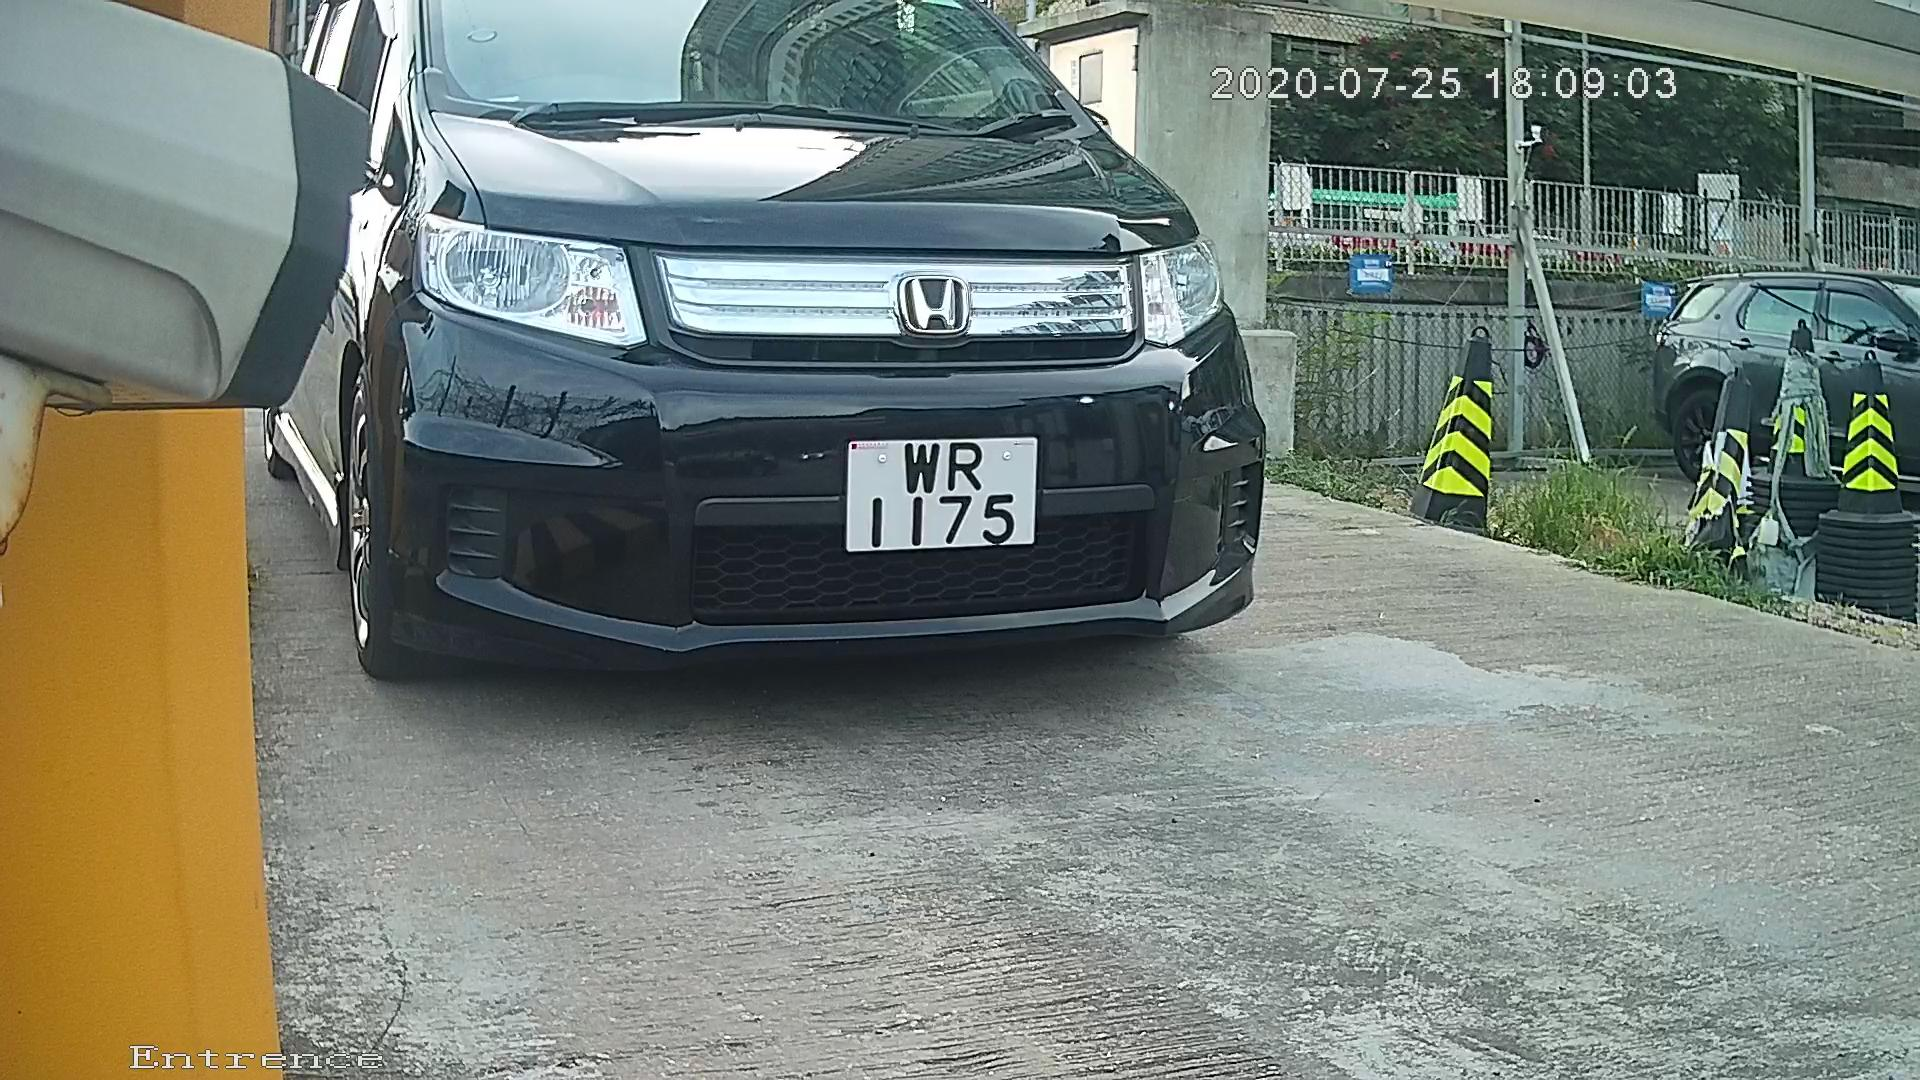License Plate: (823, 425, 1063, 569)
